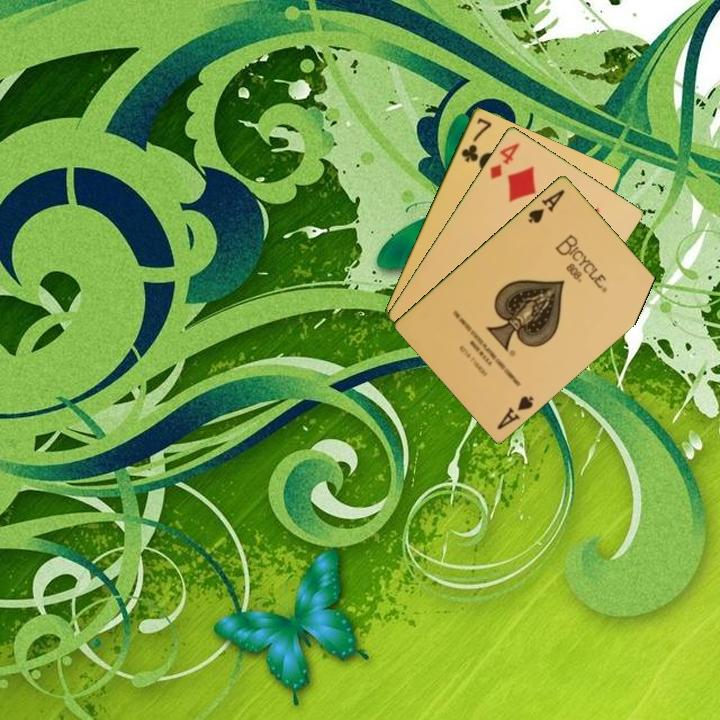4d: (486, 139, 522, 182)
7c: (457, 114, 494, 165)
As: (524, 185, 568, 226), (493, 392, 537, 432)
